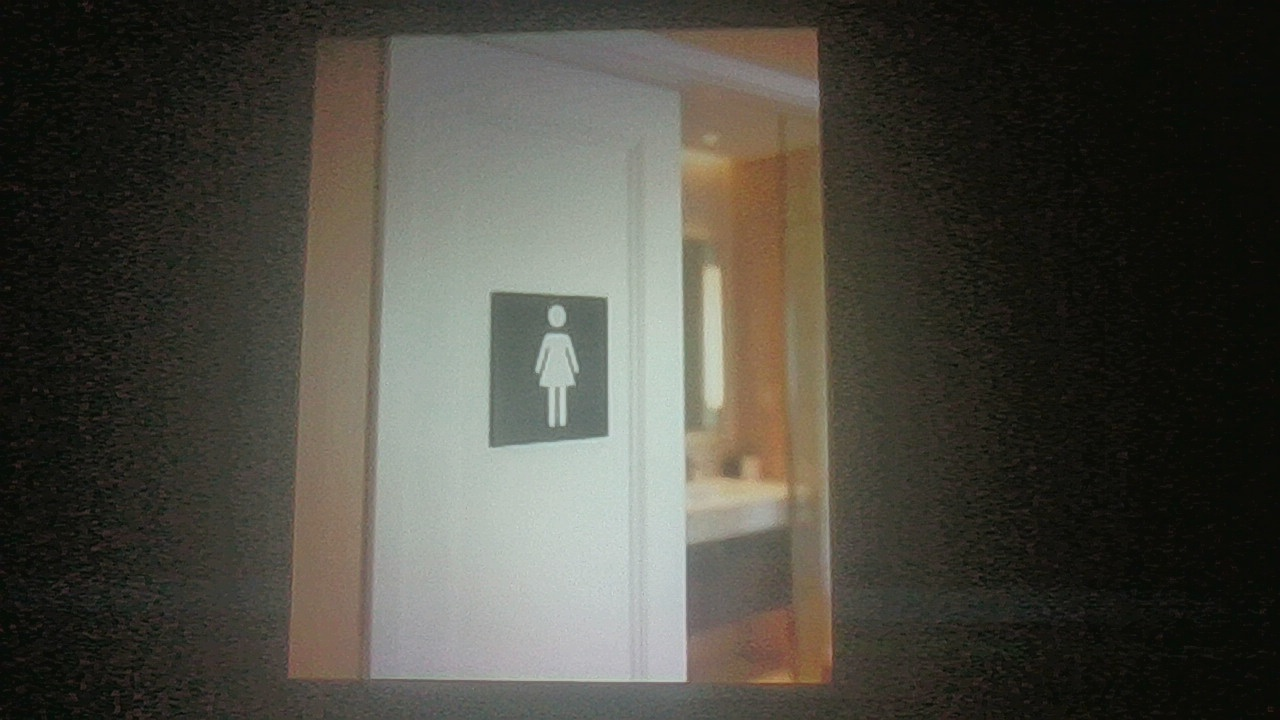womens_restroom: (483, 278, 616, 460)
